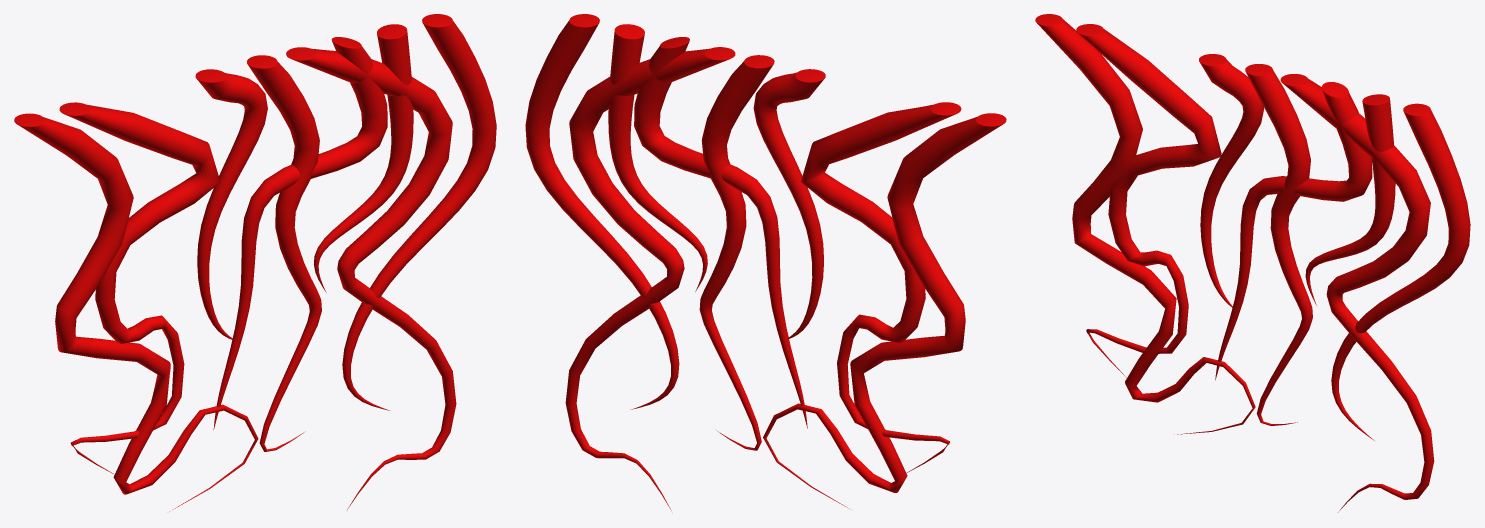
File: liane_mur.fbx
The picture shows the model from 3 angles, left to right: view 1: azimuth 30°, elevation 25°; view 2: azimuth 150°, elevation 25°; view 3: azimuth 330°, elevation 25°; orthographic projection. The views are drawn at different scales.
Parts seen in each view (by area): view 1: liane_mur; view 2: liane_mur; view 3: liane_mur.
Part boxes in pixels (x1,y1,x2,y2): liane_mur: (14, 14, 496, 511); liane_mur: (525, 14, 1006, 510); liane_mur: (1035, 14, 1470, 512).
Bounding box in the file's own units: 3.17 × 3.01 × 0.1765.
